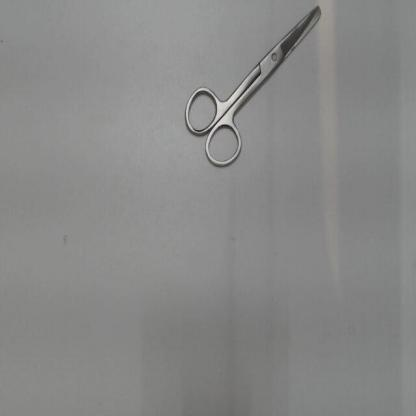Dressing Scissors: (177, 1, 329, 178)
